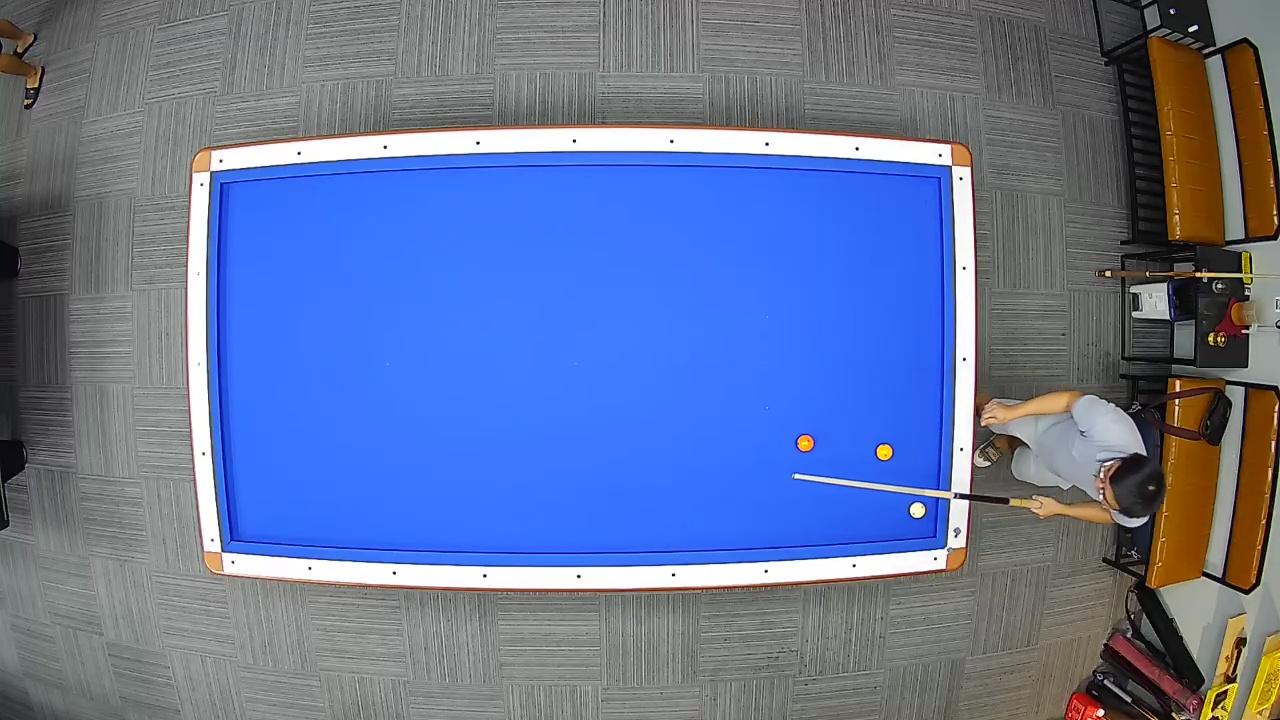Orange: (796, 433, 816, 453)
White: (908, 501, 928, 520)
Yellow: (874, 442, 894, 461)
